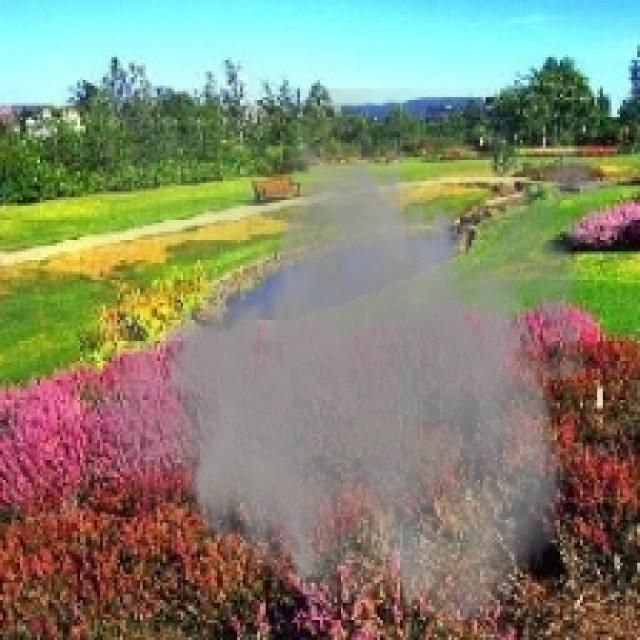smoke: (91, 89, 623, 634)
